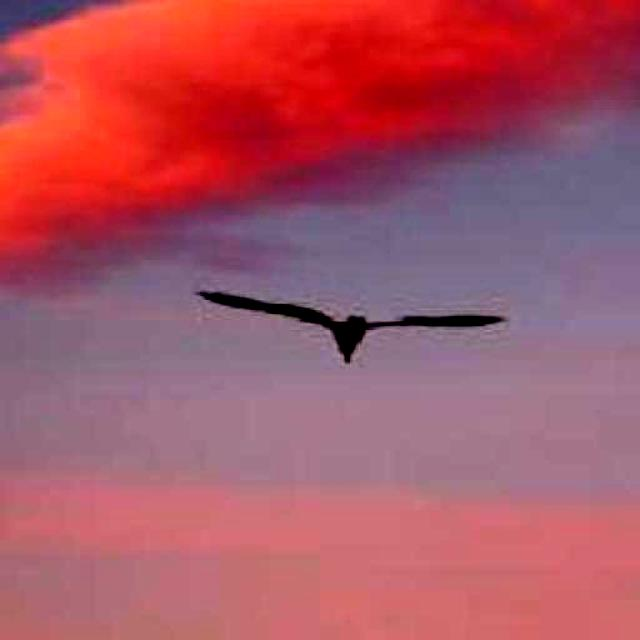airplane: (201, 290, 508, 366)
